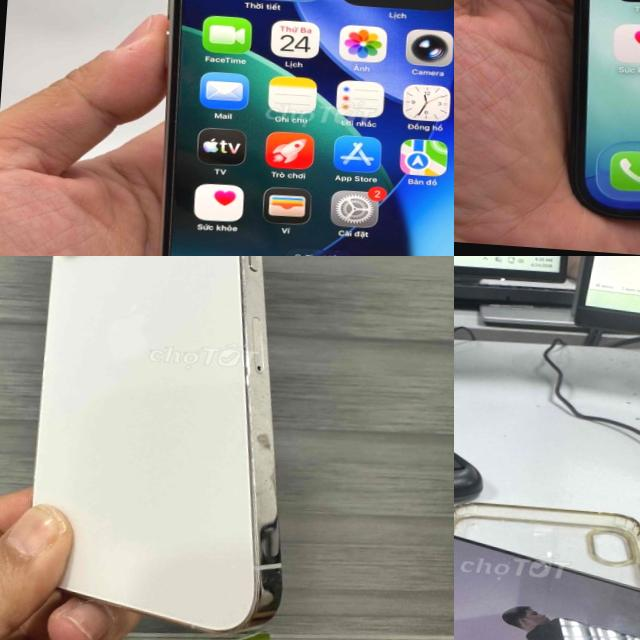gen_12_13: (16, 256, 320, 639), (538, 0, 640, 245)
gen_15: (131, 0, 454, 256)
gen_x_xs: (454, 498, 640, 640)
